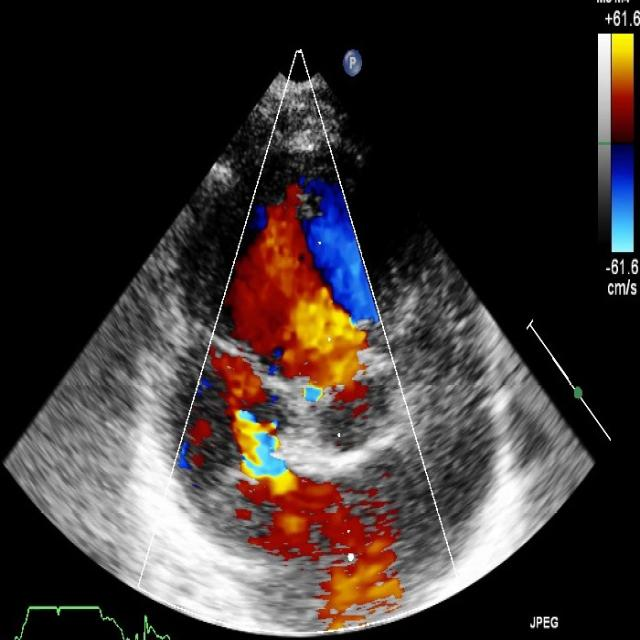ASDType2: (201, 348, 302, 563)
VSDType2: (227, 169, 369, 394)
